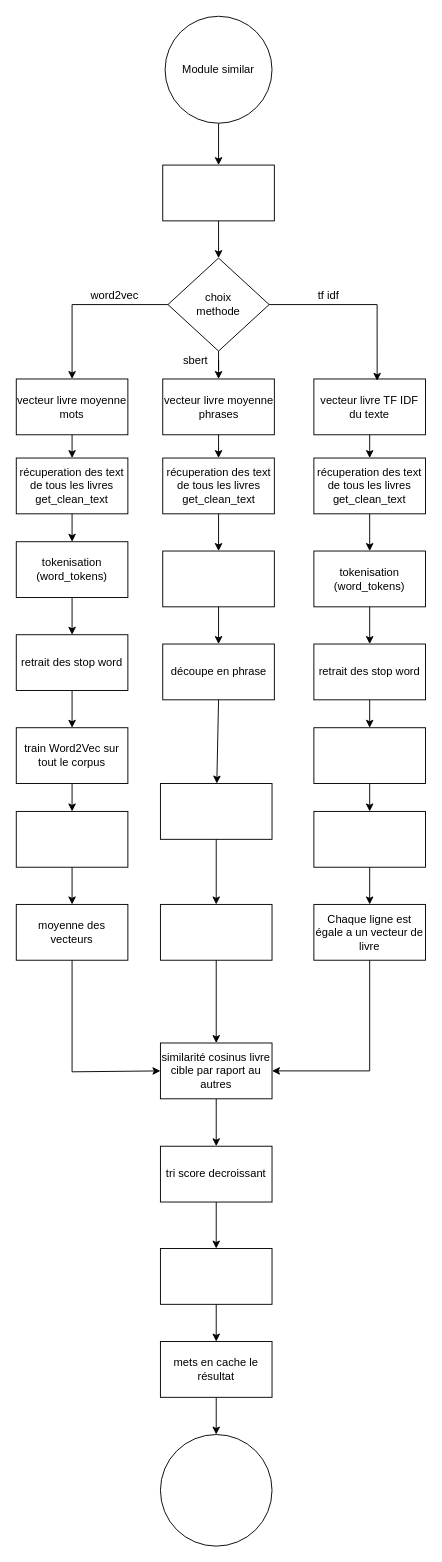
Image size: 442x1562. Some labels were removed from this diagram. Each missing label, with the box of its shape:
Calcule la matrice TF IDF sur l ancemble des documents: (313, 810, 425, 867)
charge modele MiniLM: (162, 550, 274, 607)
embed chaque mot du livre: (15, 810, 128, 867)
encode chaque phrase: (159, 783, 272, 839)
garde les 5 premiers: (159, 1248, 272, 1304)
moyenne des embeddings phrases: (159, 903, 272, 960)
retourne le résultat: (159, 1434, 272, 1546)
récuperation du text get_clean_text {id}: (162, 164, 274, 221)
Traitement de chaque livre comme un document: (313, 727, 425, 784)
